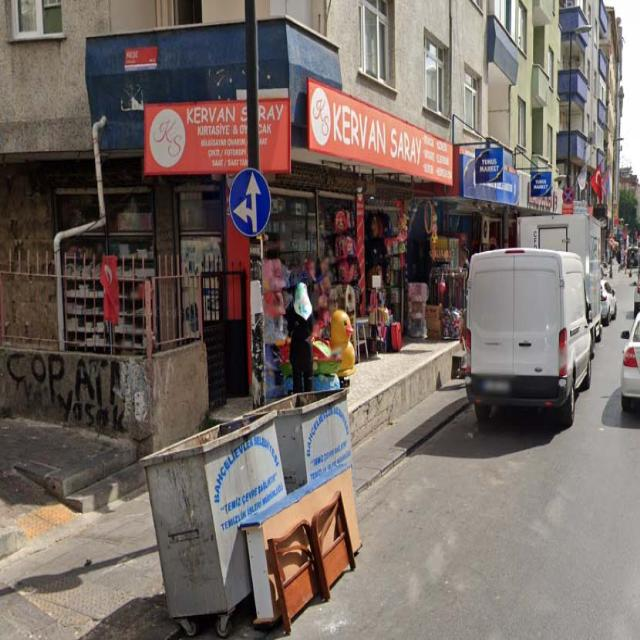ilerisol: (229, 169, 271, 236)
